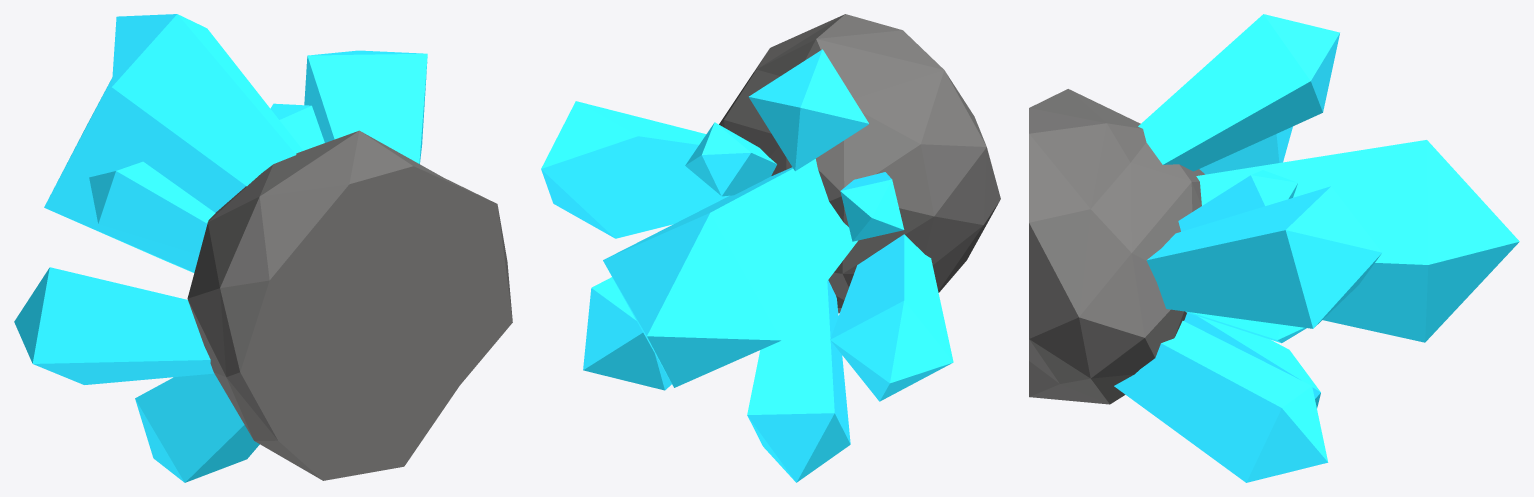
The model's file is CrystalRock.fbx.
The picture shows the model from 3 angles, left to right: view 1: azimuth 30°, elevation 25°; view 2: azimuth 150°, elevation 25°; view 3: azimuth 270°, elevation 25°; orthographic projection. The views are drawn at different scales.
Parts seen in each view (by area): view 1: CrystalRock; view 2: CrystalRock; view 3: CrystalRock.
Part boxes in pixels (<box>): CrystalRock: <box>14,14,512,482</box>; CrystalRock: <box>541,14,1000,482</box>; CrystalRock: <box>1029,14,1519,482</box>.
Size of the model in its own units: 293 by 312 by 333.
